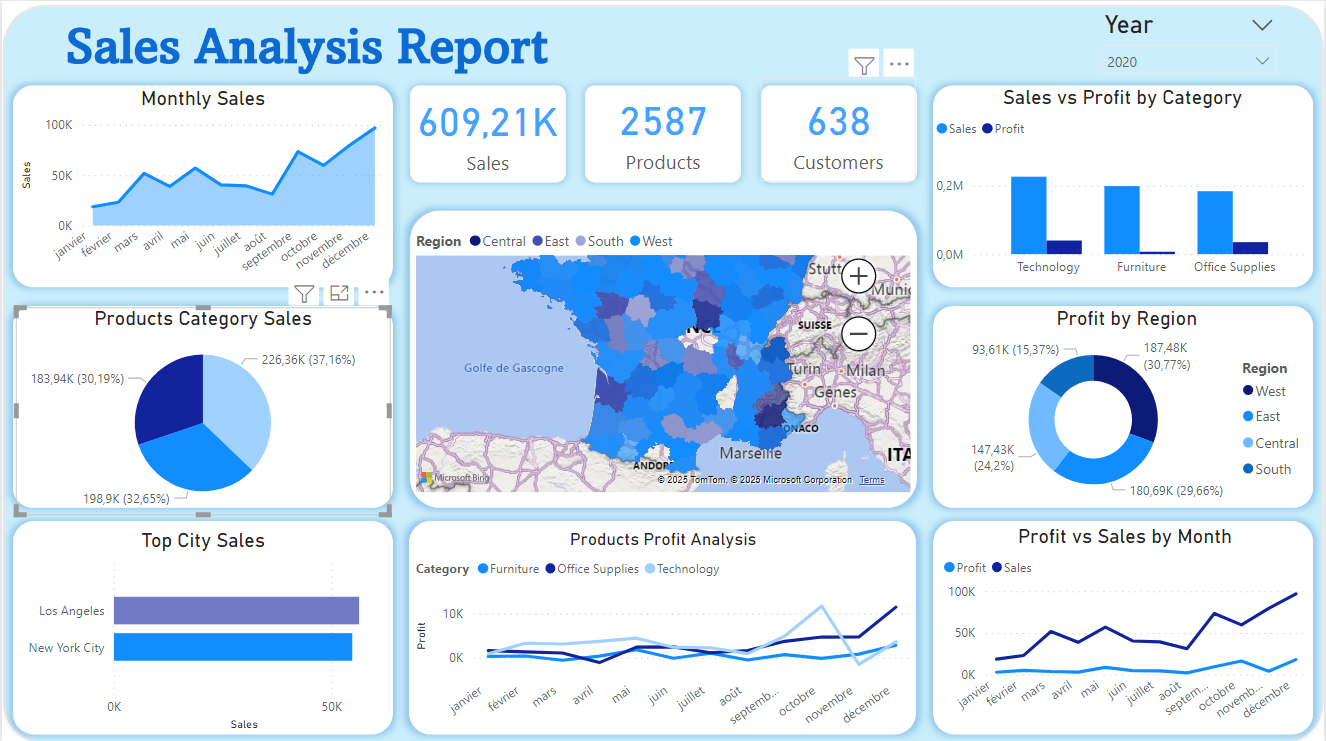

This screenshot's page, from the dashboard's own definition file:
{"tool":"powerbi","page":{"name":"Sales Report 2020","canvas":[1280,720],"ordinal":2},"visuals":[{"type":"stackedAreaChart","title":"Monthly Sales","fields":{"Category":["Orders.Order Date.Variation.Hiérarchie de dates.Mois"],"Y":["Sum(Orders.Sales)"]},"box":[13.6,83.9,362.9,193.8],"z":0},{"type":"pieChart","title":"Products Category Sales","fields":{"Category":["Orders.Category"],"Y":["Sum(Orders.Sales)"]},"box":[13.6,296.2,362.9,202.4],"z":1000},{"type":"filledMap","fields":{"Category":["Orders.Sales"],"Series":["Orders.Region"]},"box":[395.7,211.8,488.9,268.6],"z":2000},{"type":"lineChart","title":"Products Profit Analysis","fields":{"Y":["Sum(Orders.Profit)"],"Series":["Orders.Category"],"Category":["Orders.Order Date.Variation.Hiérarchie de dates.Mois"]},"box":[396.2,511,488.8,202.4],"z":3000},{"type":"card","fields":{"Values":["Sum(Orders.Sales)"]},"box":[396.2,75.3,149.4,101.2],"z":4000},{"type":"slicer","fields":{"Values":["Orders.Order Date.Variation.Hiérarchie de dates.Année"]},"box":[1054.1,3.7,188.9,72.8],"z":5000},{"type":"card","fields":{"Values":["Count(Orders.Customer ID)"]},"box":[734.4,75.3,150.6,100],"z":6000},{"type":"clusteredBarChart","title":"Top City Sales","fields":{"Category":["Orders.City"],"Y":["Sum(Orders.Sales)"]},"box":[13.6,511,362.9,201.2],"z":7000},{"type":"clusteredColumnChart","title":"Sales vs Profit by Category","fields":{"Category":["Orders.Category"],"Y":["Sum(Orders.Sales)","Sum(Orders.Profit)"]},"box":[898.6,82.7,371.5,193.8],"z":8000},{"type":"donutChart","title":"Profit by Region","fields":{"Y":["Sum(Orders.Sales)"],"Category":["Orders.Region"]},"box":[907.2,296.2,362.9,196.3],"z":9000},{"type":"lineChart","title":"Profit vs Sales by Month","fields":{"Category":["Orders.Order Date.Variation.Hiérarchie de dates.Mois"],"Y":["Sum(Orders.Profit)","Sum(Orders.Sales)"]},"box":[906,507.3,361.7,200],"z":10000},{"type":"card","fields":{"Values":["CountNonNull(Orders.Product ID)"]},"box":[559.2,75.3,161.7,100],"z":11000}]}

Visuals, with their boxes in screenshot pixels (x1, y1, x2, y2), scaled from the page's 1280x720 canvas onto the 1326x741 screenshot:
"Monthly Sales" stackedAreaChart: <region>14, 86, 390, 286</region>
"Products Category Sales" pieChart: <region>14, 305, 390, 513</region>
filledMap - Orders.Sales x Orders.Region: <region>410, 218, 916, 494</region>
"Products Profit Analysis" lineChart: <region>410, 526, 917, 734</region>
card - Sum(Orders.Sales): <region>410, 77, 565, 182</region>
slicer - Orders.Order Date.Variation.Hiérarchie de dates.Année: <region>1092, 4, 1288, 79</region>
card - Count(Orders.Customer ID): <region>761, 77, 917, 180</region>
"Top City Sales" clusteredBarChart: <region>14, 526, 390, 733</region>
"Sales vs Profit by Category" clusteredColumnChart: <region>931, 85, 1316, 285</region>
"Profit by Region" donutChart: <region>940, 305, 1316, 507</region>
"Profit vs Sales by Month" lineChart: <region>939, 522, 1313, 728</region>
card - CountNonNull(Orders.Product ID): <region>579, 77, 747, 180</region>
